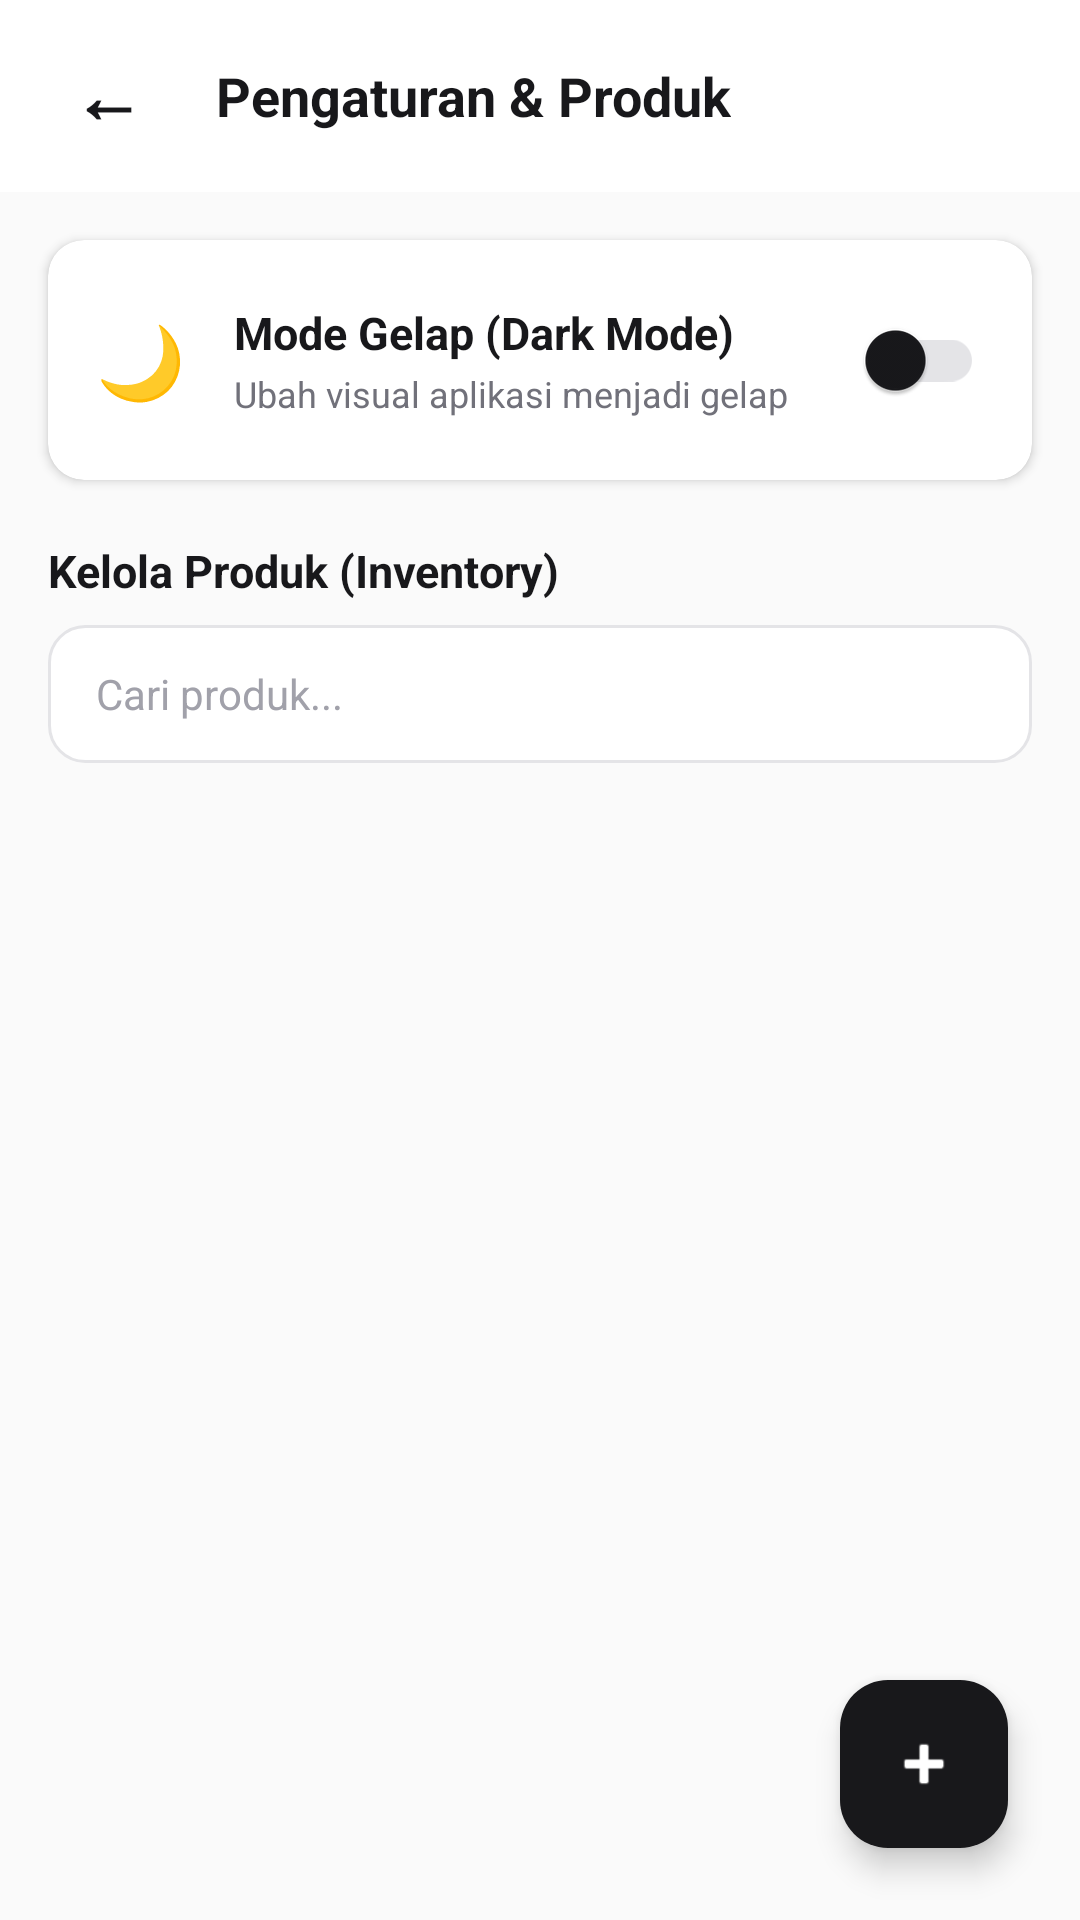

Where to tap for icons on this 1080w x 1920h app screen, as [x,y]:
Tambah Produk: [924,1764]
